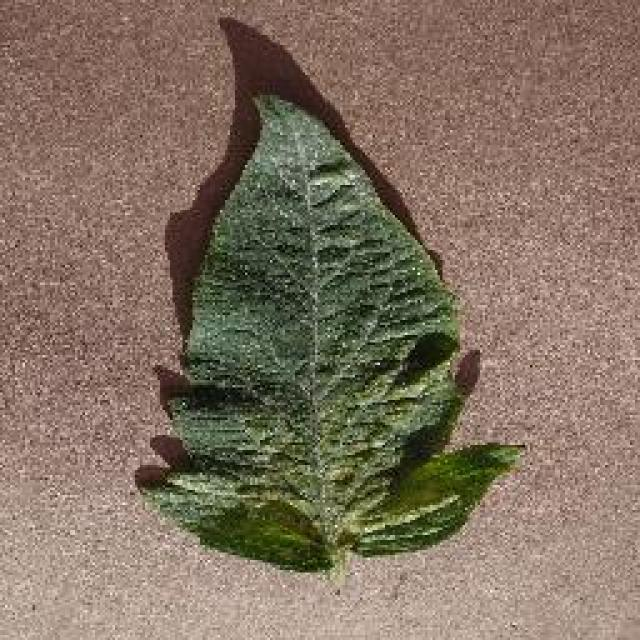Tomato spider mites leaf: (137, 91, 525, 574)
